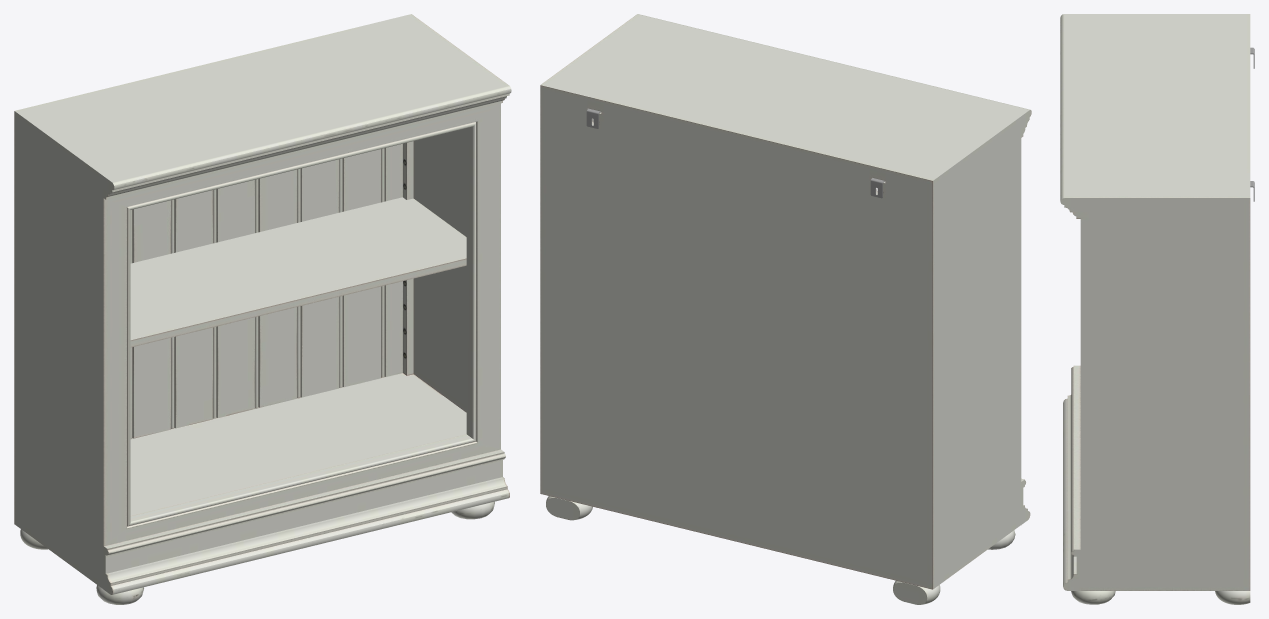
Rendered from example137.gltf.
3 renders of one model, left to right at view 1: azimuth 30°, elevation 25°; view 2: azimuth 150°, elevation 25°; view 3: azimuth 270°, elevation 25°, orthographic. The views are drawn at different scales.
Bounding box in the file's own units: 86 × 89.54 × 38.3.
2 materials, 1 textured.
